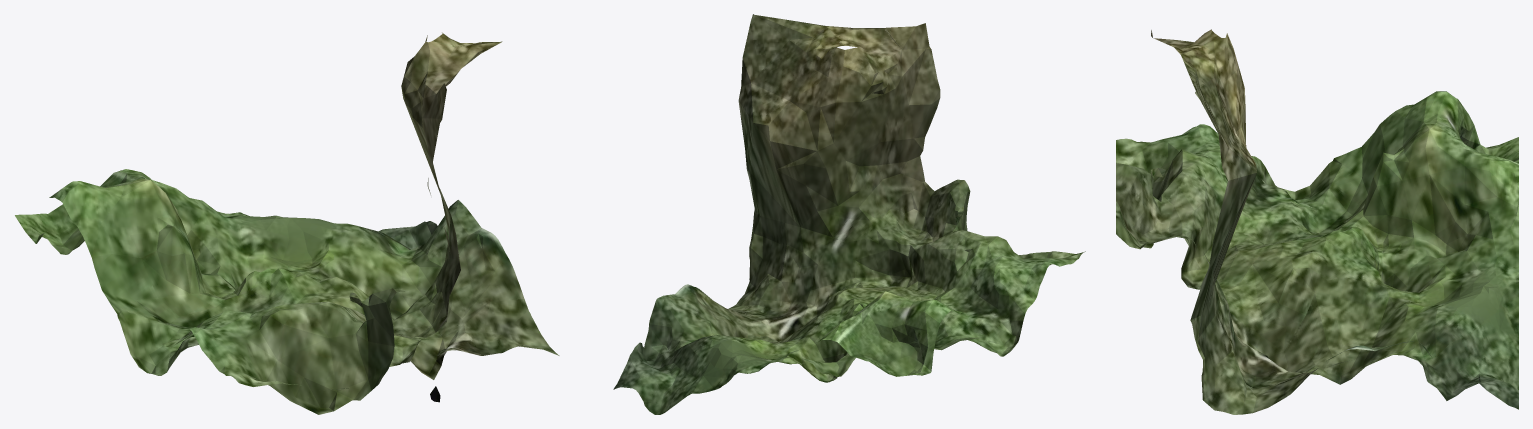
3 renders of one model, left to right at view 1: azimuth 30°, elevation 25°; view 2: azimuth 150°, elevation 25°; view 3: azimuth 270°, elevation 25°, orthographic. The views are drawn at different scales.
Bounding box in the file's own units: 2.95 × 2.83 × 2.95.
Materials: 4 (4 with a texture image).
